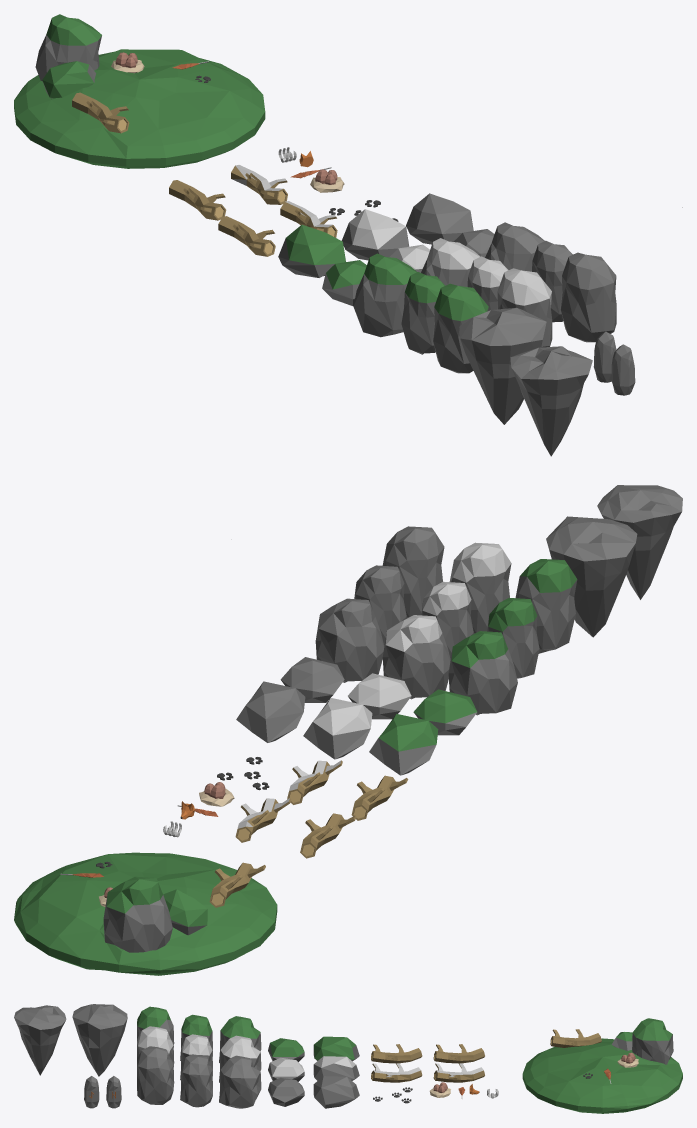
Rendered from Lowpoly_forestmisc_pack.fbx.
3 views of the same model, one above another, from view 1: azimuth 30°, elevation 25°; view 2: azimuth 150°, elevation 25°; view 3: azimuth 270°, elevation 25° (orthographic). The views are drawn at different scales.
Visible parts, largest first — view 1: pSphere22, pCone2, pCone1, pSphere6, pSphere16, pSphere18, pSphere24, pSphere14, pSphere17, pSphere8, pSphere13, pSphere9 (+15 smaller); view 2: pSphere22, pCone2, pCone1, pSphere16, pSphere4, pSphere11, pSphere24, pSphere18, pSphere6, pSphere9, pSphere14, pSphere8 (+13 smaller); view 3: pSphere22, pCone2, pCone1, pSphere6, pSphere4, pSphere5, pSphere24, pSphere8, pSphere13, pSphere14, pSphere11, pSphere16 (+17 smaller).
Boxes of the visible parts, x1=… form: pSphere22: x1=14, y1=49, x2=265, y2=168; pCone2: x1=459, y1=307, x2=546, y2=424; pCone1: x1=510, y1=346, x2=592, y2=456; pSphere6: x1=560, y1=252, x2=616, y2=342; pSphere16: x1=353, y1=253, x2=416, y2=337; pSphere18: x1=433, y1=283, x2=488, y2=373; pSphere24: x1=35, y1=14, x2=101, y2=81; pSphere14: x1=278, y1=224, x2=345, y2=277; pSphere17: x1=401, y1=272, x2=445, y2=354; pSphere8: x1=406, y1=193, x2=473, y2=244; pSphere13: x1=341, y1=209, x2=408, y2=260; pSphere9: x1=497, y1=268, x2=552, y2=347; pSphere22: x1=14, y1=852, x2=277, y2=975; pCone2: x1=546, y1=516, x2=637, y2=637; pCone1: x1=597, y1=485, x2=682, y2=599; pSphere16: x1=448, y1=631, x2=517, y2=715; pSphere4: x1=315, y1=598, x2=384, y2=682; pSphere11: x1=382, y1=615, x2=450, y2=699; pSphere24: x1=103, y1=876, x2=172, y2=952; pSphere18: x1=515, y1=559, x2=577, y2=653; pSphere6: x1=382, y1=526, x2=444, y2=618; pSphere9: x1=449, y1=542, x2=511, y2=633; pSphere14: x1=369, y1=714, x2=438, y2=775; pSphere8: x1=236, y1=681, x2=305, y2=742; pSphere22: x1=522, y1=1038, x2=682, y2=1113; pCone2: x1=72, y1=1004, x2=127, y2=1076; pCone1: x1=14, y1=1005, x2=66, y2=1075; pSphere6: x1=137, y1=1046, x2=174, y2=1104; pSphere4: x1=219, y1=1055, x2=261, y2=1108; pSphere5: x1=180, y1=1054, x2=212, y2=1107; pSphere24: x1=632, y1=1018, x2=673, y2=1064; pSphere8: x1=313, y1=1076, x2=359, y2=1108; pSphere13: x1=313, y1=1056, x2=359, y2=1080; pSphere14: x1=313, y1=1036, x2=359, y2=1061; pSphere11: x1=219, y1=1035, x2=261, y2=1082; pSphere16: x1=219, y1=1016, x2=261, y2=1062.
Size of the model in its own units: 1329 by 448 by 3563.
